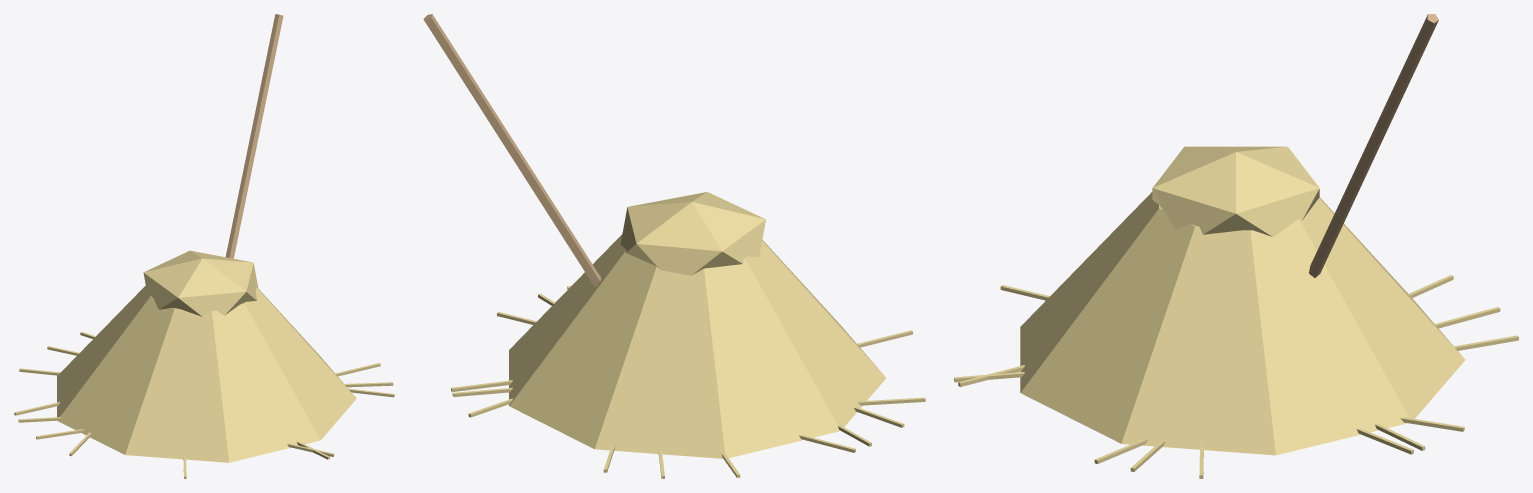
File: SM_Hay_Pile.glb
3 renders of one model, left to right at view 1: azimuth 30°, elevation 25°; view 2: azimuth 150°, elevation 25°; view 3: azimuth 270°, elevation 25°, orthographic. The views are drawn at different scales.
Parts seen in each view (by area): view 1: SM_Hay_Pile; view 2: SM_Hay_Pile; view 3: SM_Hay_Pile.
Part boxes in pixels (box(x1,y1,x2,y2)): SM_Hay_Pile: box(14, 14, 394, 478); SM_Hay_Pile: box(423, 14, 925, 478); SM_Hay_Pile: box(954, 14, 1518, 478).
Bounding box in the file's own units: 1.74 × 1.51 × 1.72.
